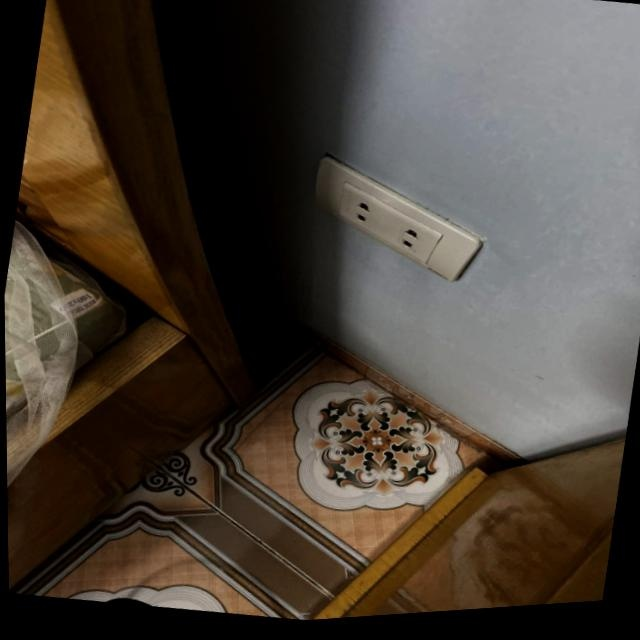outlet: (300, 141, 495, 296)
